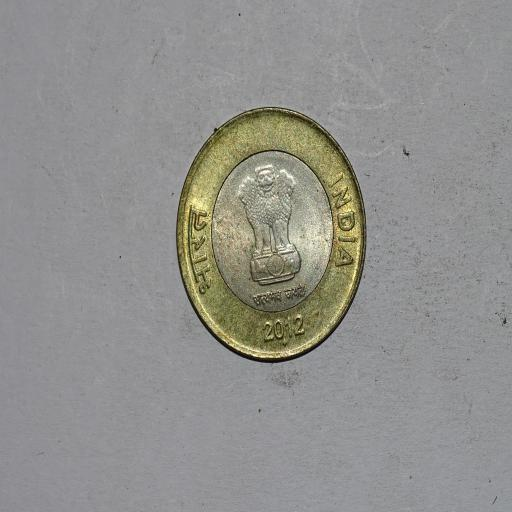rupee10: (170, 107, 369, 368)
